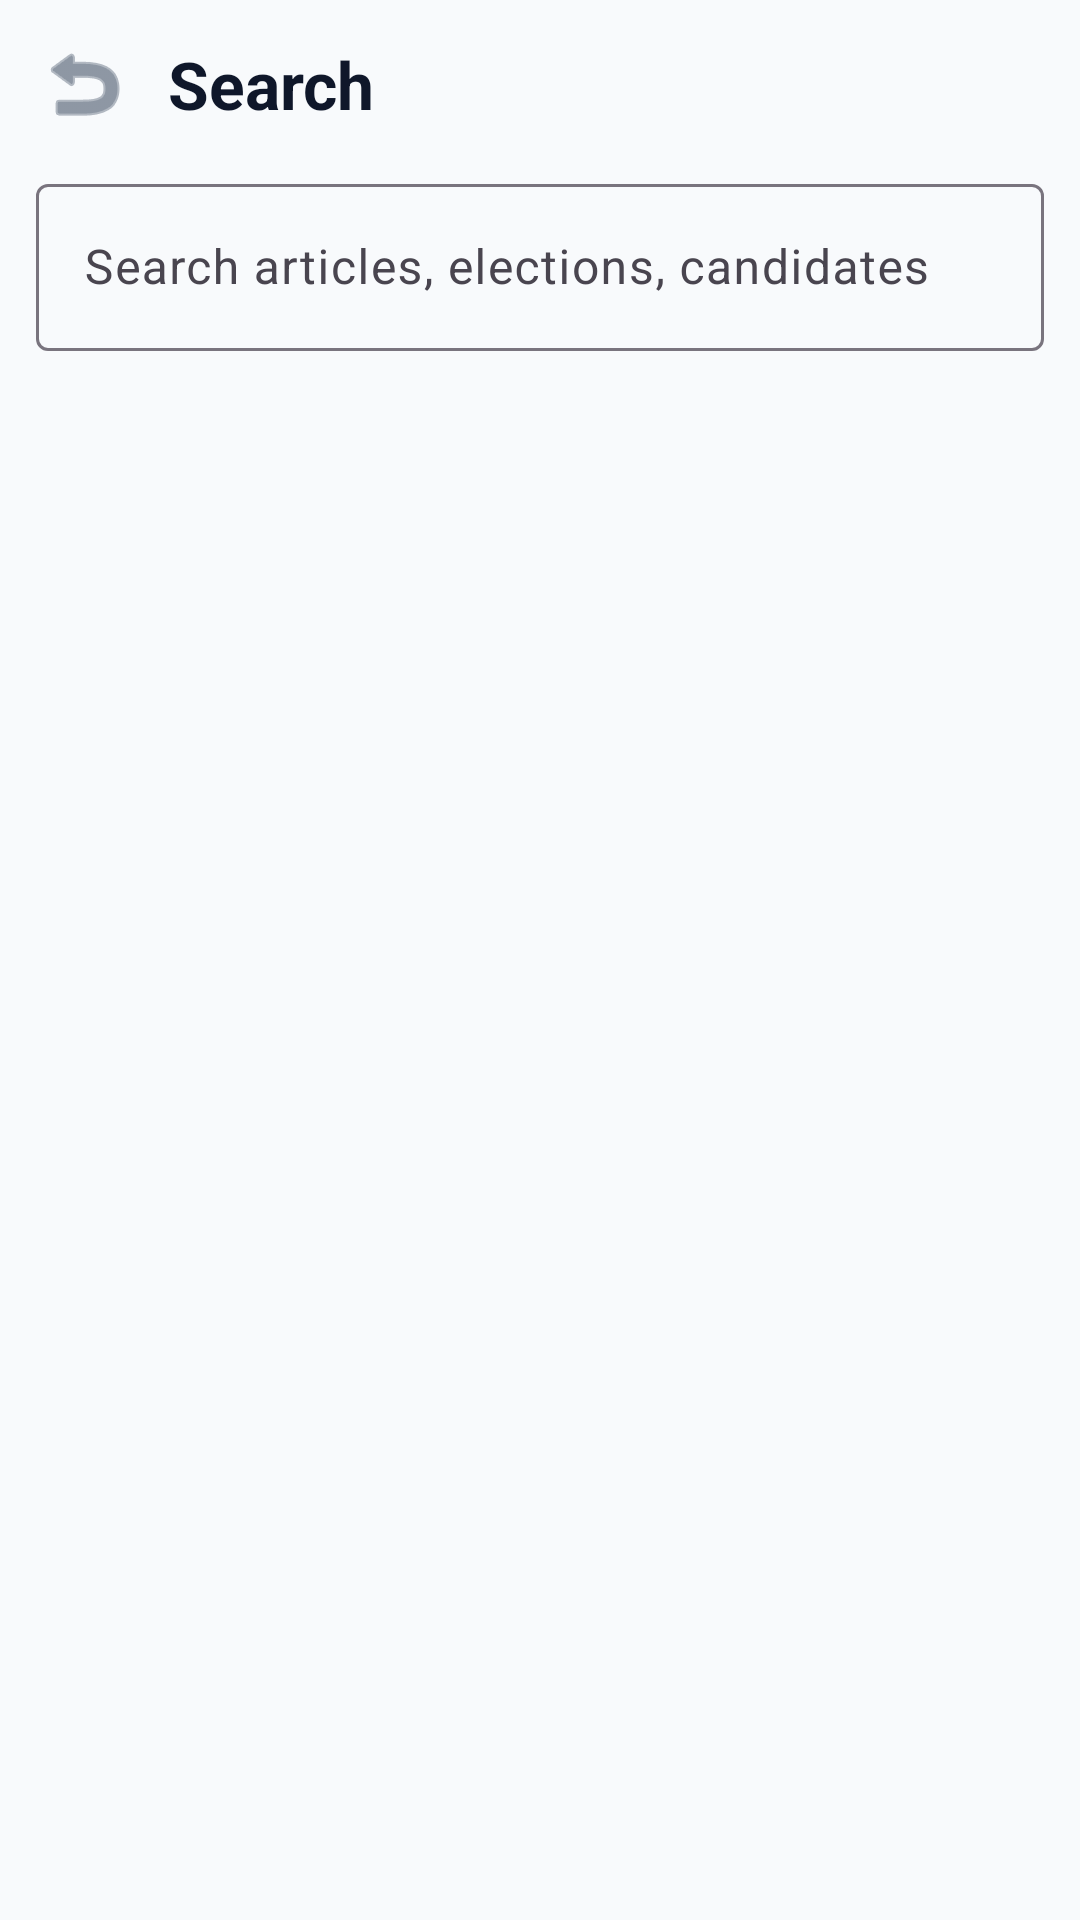

Icon bounding boxes for this 1080 × 1920 phone screenshot, format [left=x1, top=y1, right=x2, bottom=y2]:
Back: [left=51, top=53, right=120, bottom=116]
